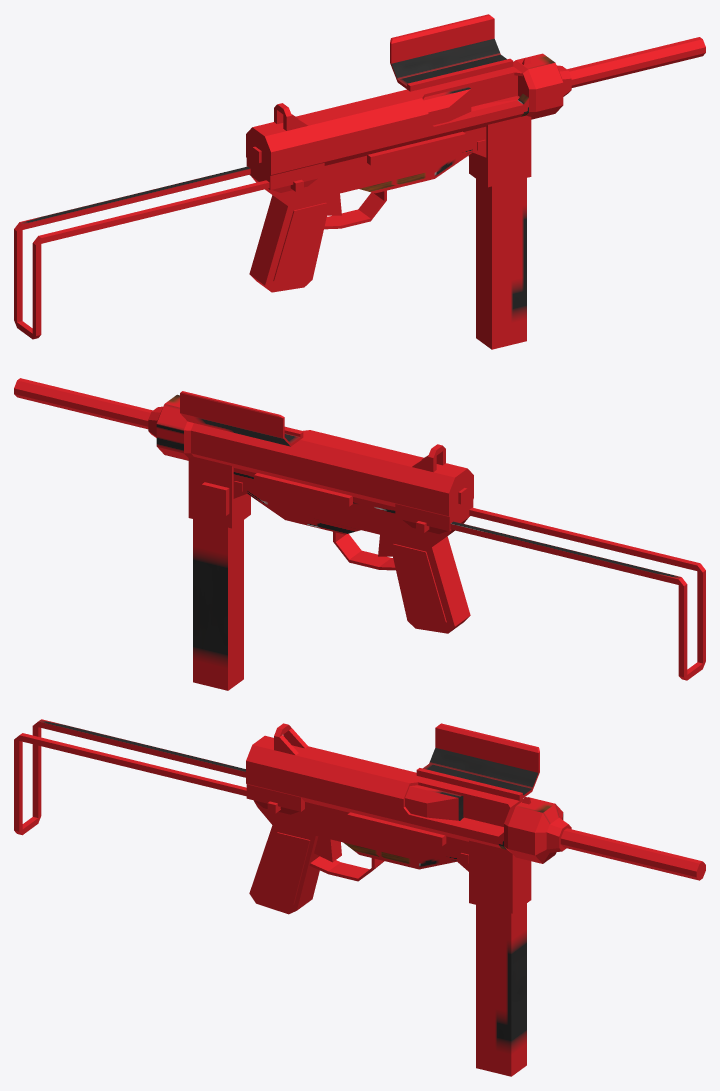
File: ModelM3A1.obj
3 renders of one model, top to bottom at view 1: azimuth 30°, elevation 25°; view 2: azimuth 150°, elevation 25°; view 3: azimuth 330°, elevation 25°, orthographic.
Parts seen in each view (by area): view 1: gunModel, ammoModel, slideModel; view 2: gunModel, ammoModel; view 3: gunModel, ammoModel, slideModel.
Boxes of the visible parts, <box> form: gunModel: <box>14,14,705,339</box>; ammoModel: <box>476,178,526,349</box>; slideModel: <box>423,86,471,125</box>; gunModel: <box>14,378,705,680</box>; ammoModel: <box>193,519,243,690</box>; gunModel: <box>14,719,705,914</box>; ammoModel: <box>476,903,526,1076</box>; slideModel: <box>405,785,463,820</box>.
Bounding box in the file's own units: 12.45 × 5.35 × 1.25.
